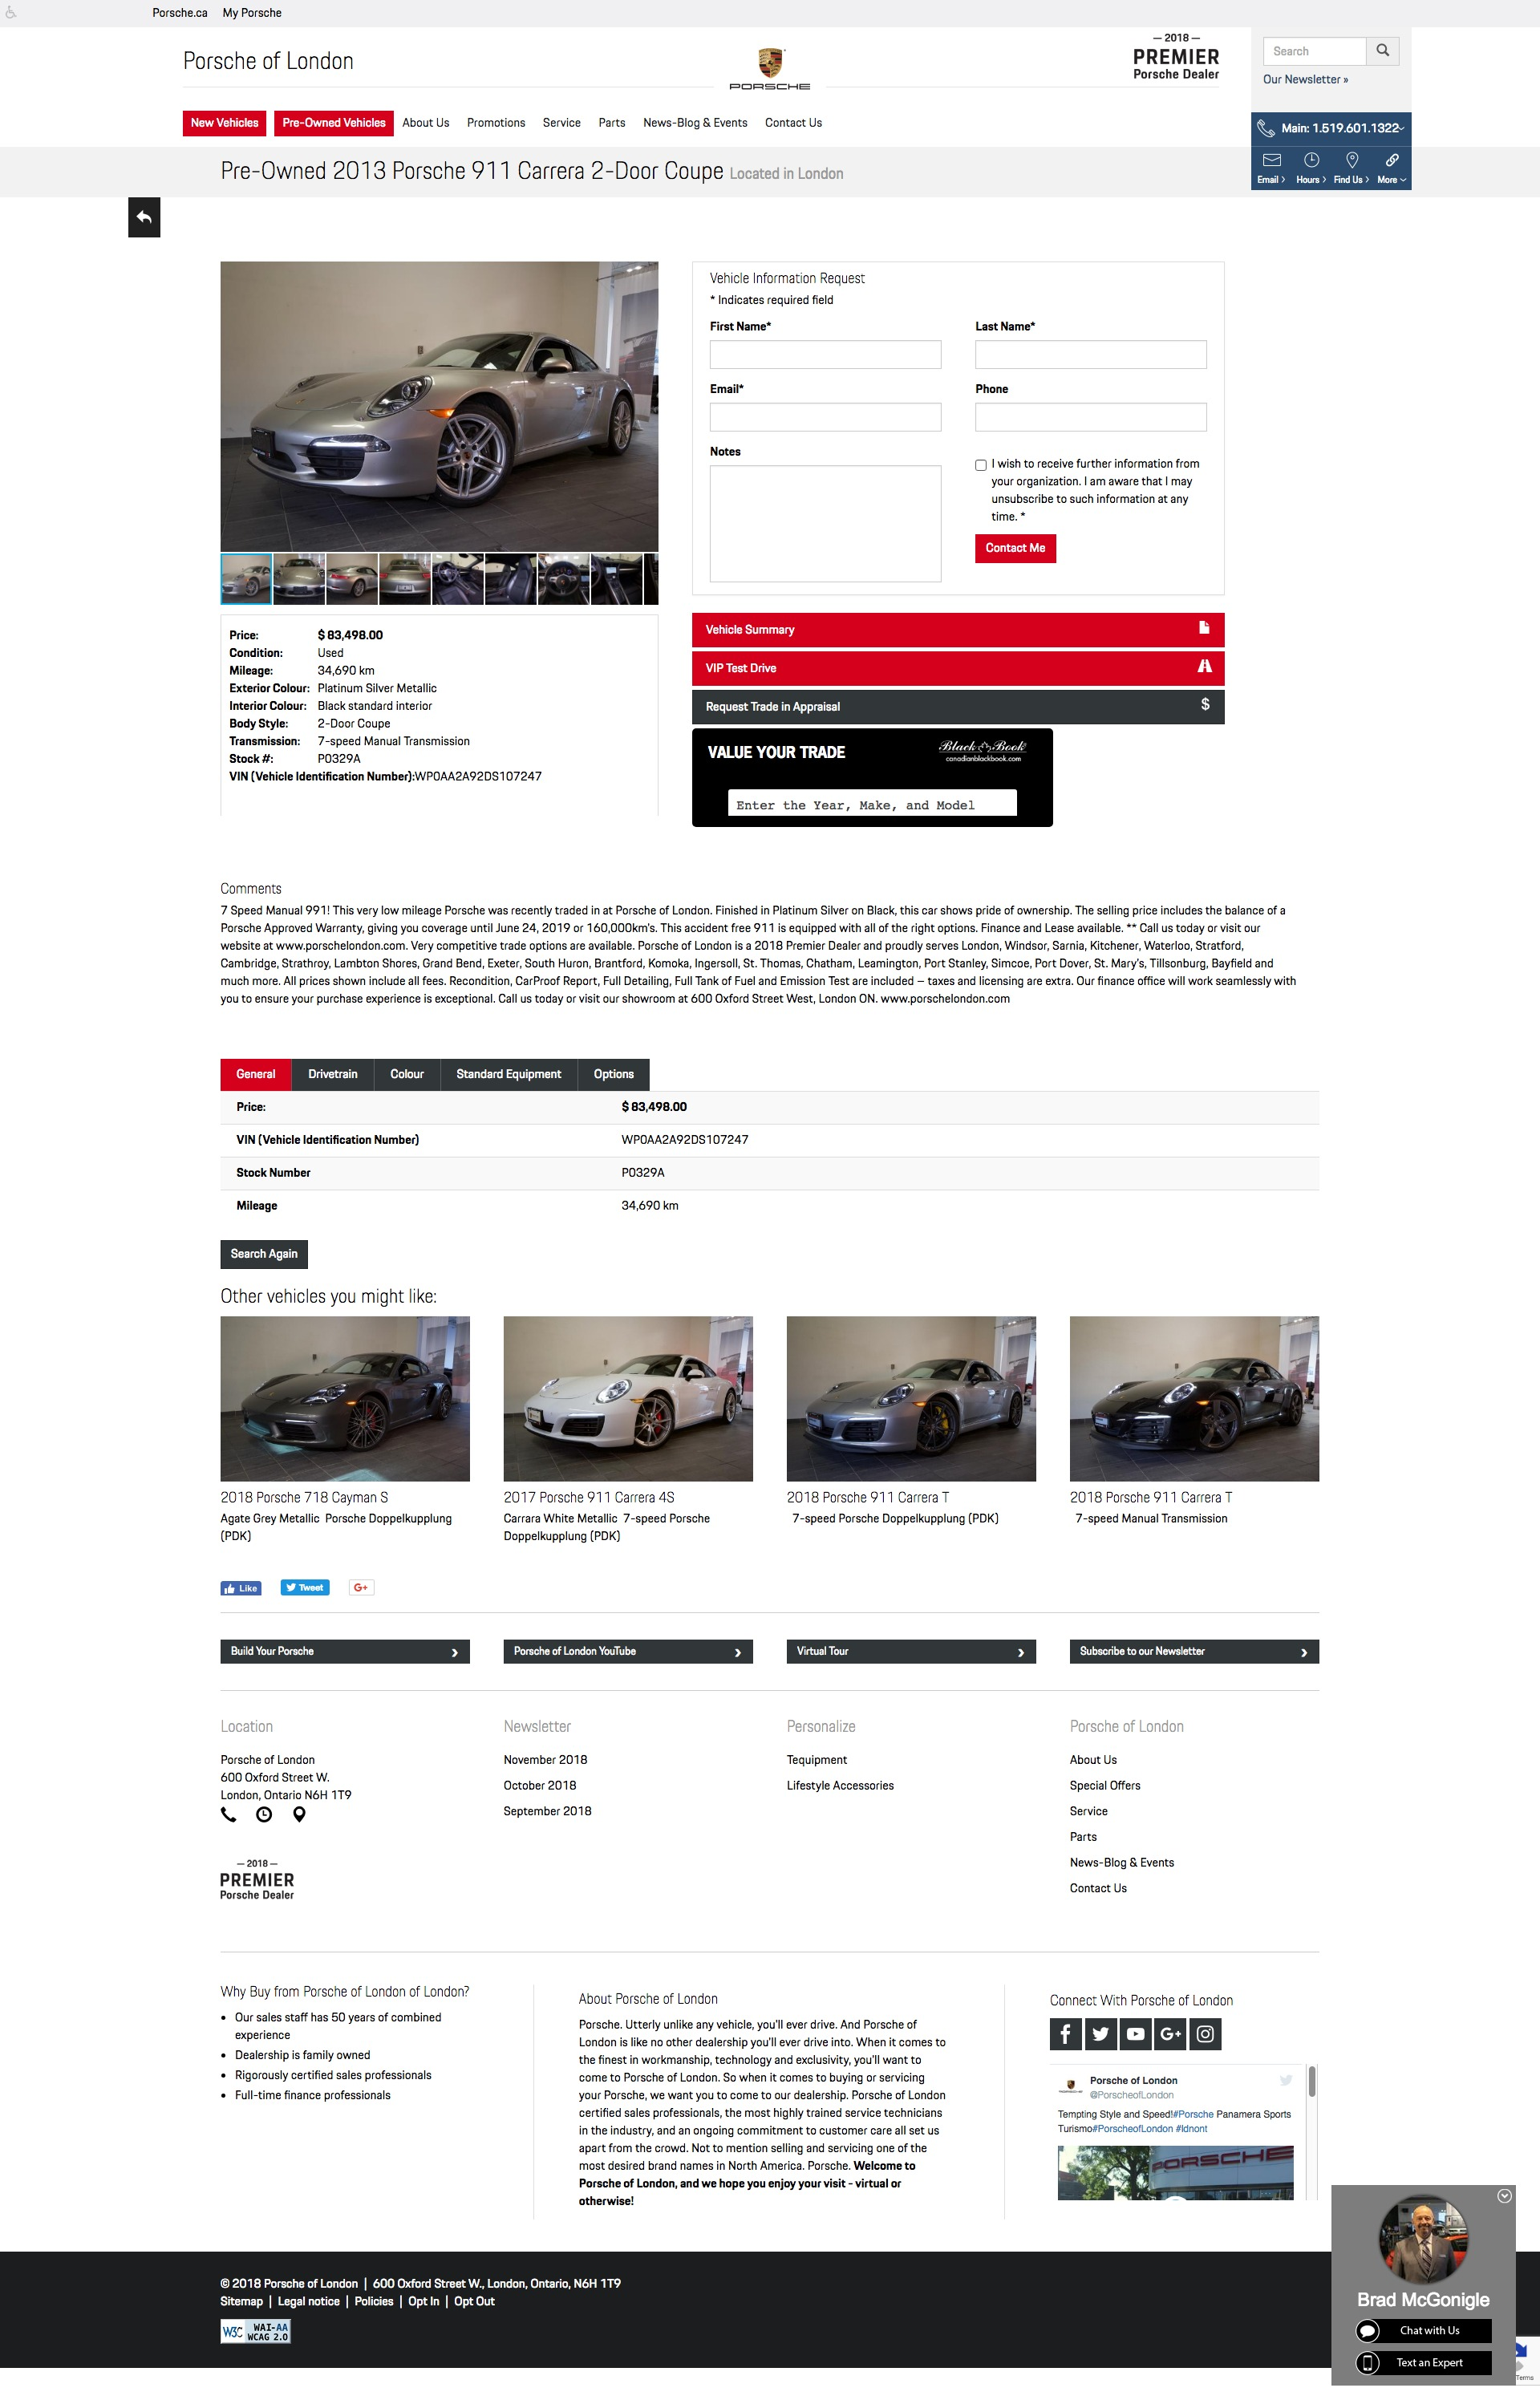car: (646, 554, 662, 606)
